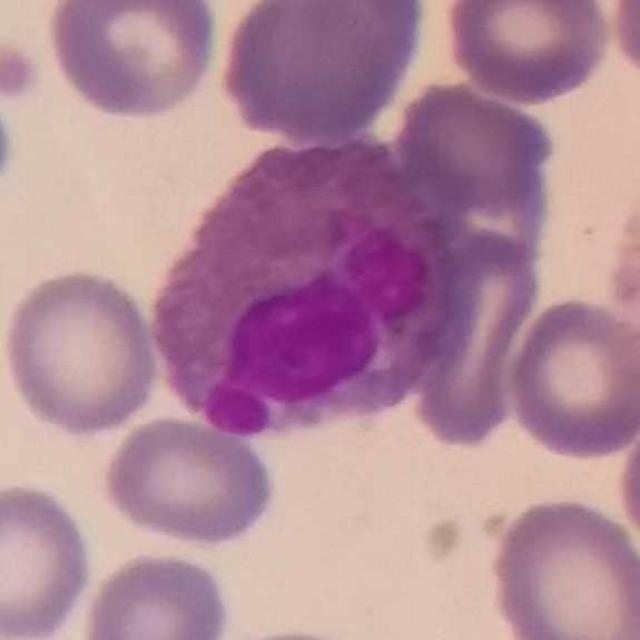Eosinophil: (142, 131, 460, 430)
Platelets: (0, 35, 43, 105)
RBC: (214, 0, 432, 147), (403, 240, 545, 451), (0, 264, 164, 440), (98, 412, 279, 550), (390, 77, 561, 217), (502, 293, 640, 464), (483, 492, 639, 640), (41, 0, 222, 124), (440, 0, 616, 108), (0, 477, 97, 640), (77, 547, 235, 640), (603, 171, 640, 363), (613, 398, 640, 570), (606, 0, 640, 88)
